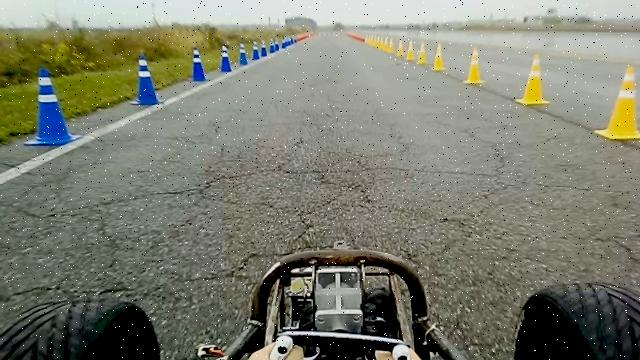blue cone: (23, 67, 82, 146), (130, 52, 164, 106), (190, 47, 208, 82), (219, 45, 232, 72), (238, 42, 248, 65), (251, 40, 260, 60), (260, 40, 267, 57)
yellow cone: (593, 64, 640, 140), (514, 52, 550, 106), (463, 46, 485, 84), (431, 42, 446, 71), (416, 41, 427, 64), (406, 39, 416, 61), (396, 38, 405, 57), (386, 37, 394, 54)
